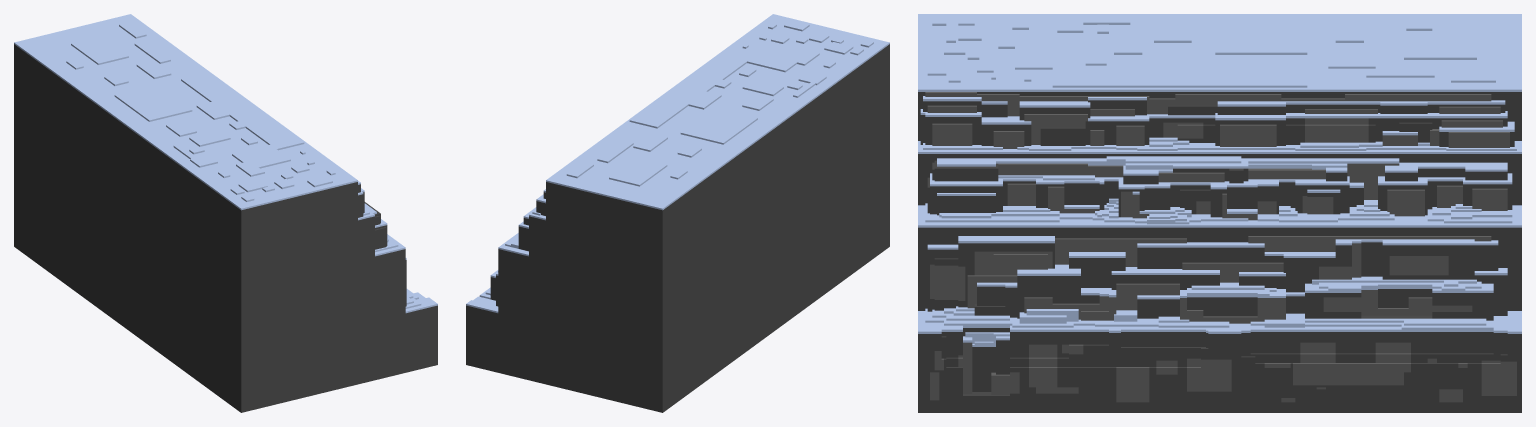
File: Wall_2.obj
The picture shows the model from 3 angles, left to right: view 1: azimuth 30°, elevation 25°; view 2: azimuth 150°, elevation 25°; view 3: azimuth 270°, elevation 25°; orthographic projection. The views are drawn at different scales.
Bounding box in the file's own units: 12.8 × 12.8 × 25.6.
1 material, 1 textured.
